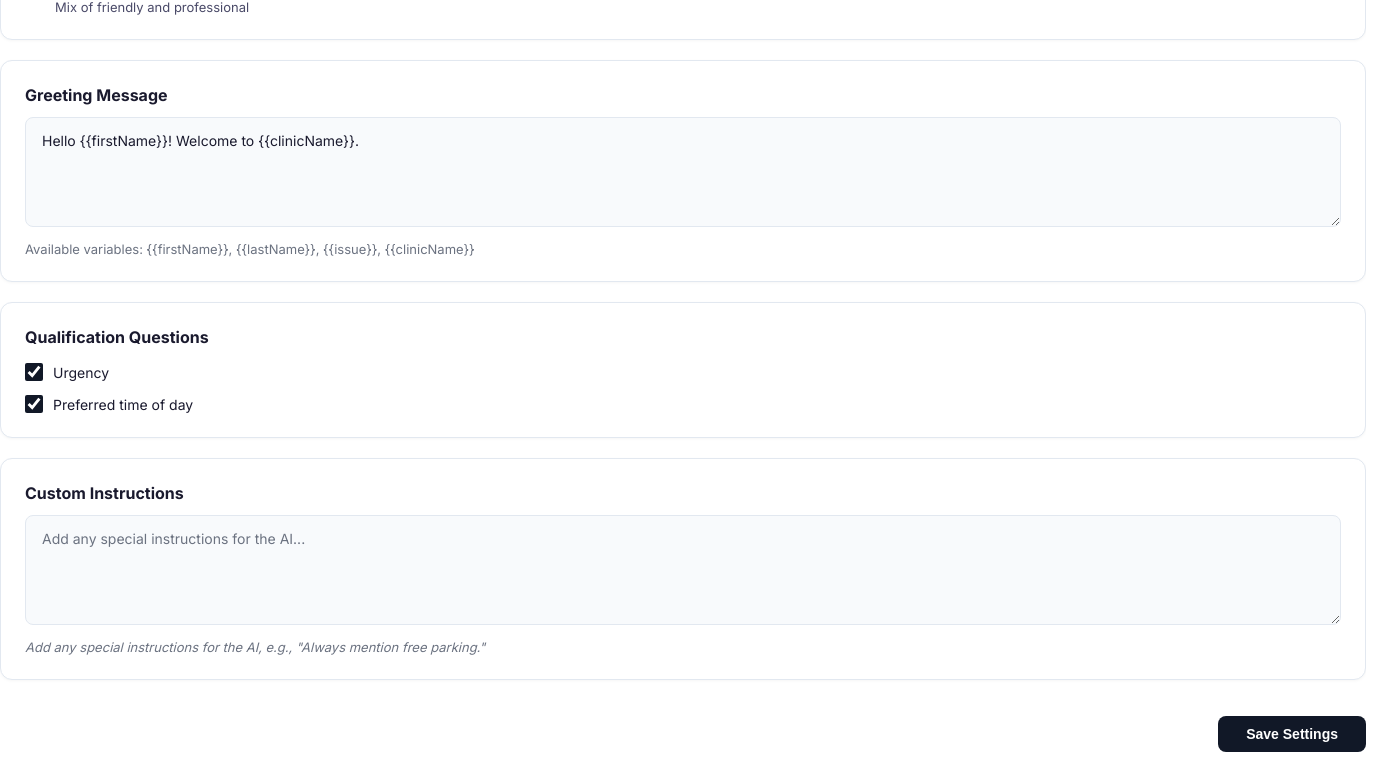
Scenario: AIConfigurationPage – interactions & save › should show error toast when save fails
(page scrolled)
Click the button "Save Settings". click: (1292, 734)
box: [1218, 716, 1366, 752]
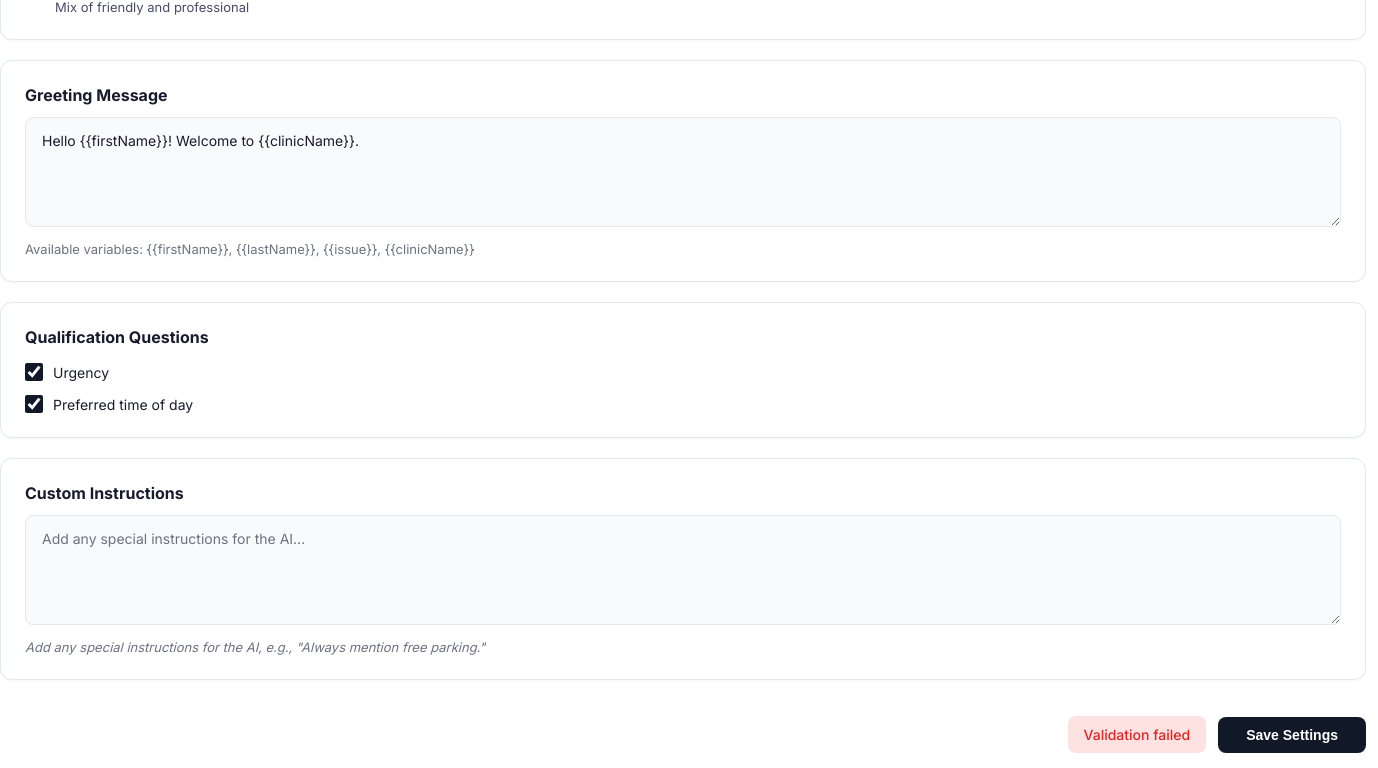
Now the text "Validation failed" is shown, box [1068, 716, 1206, 753]
